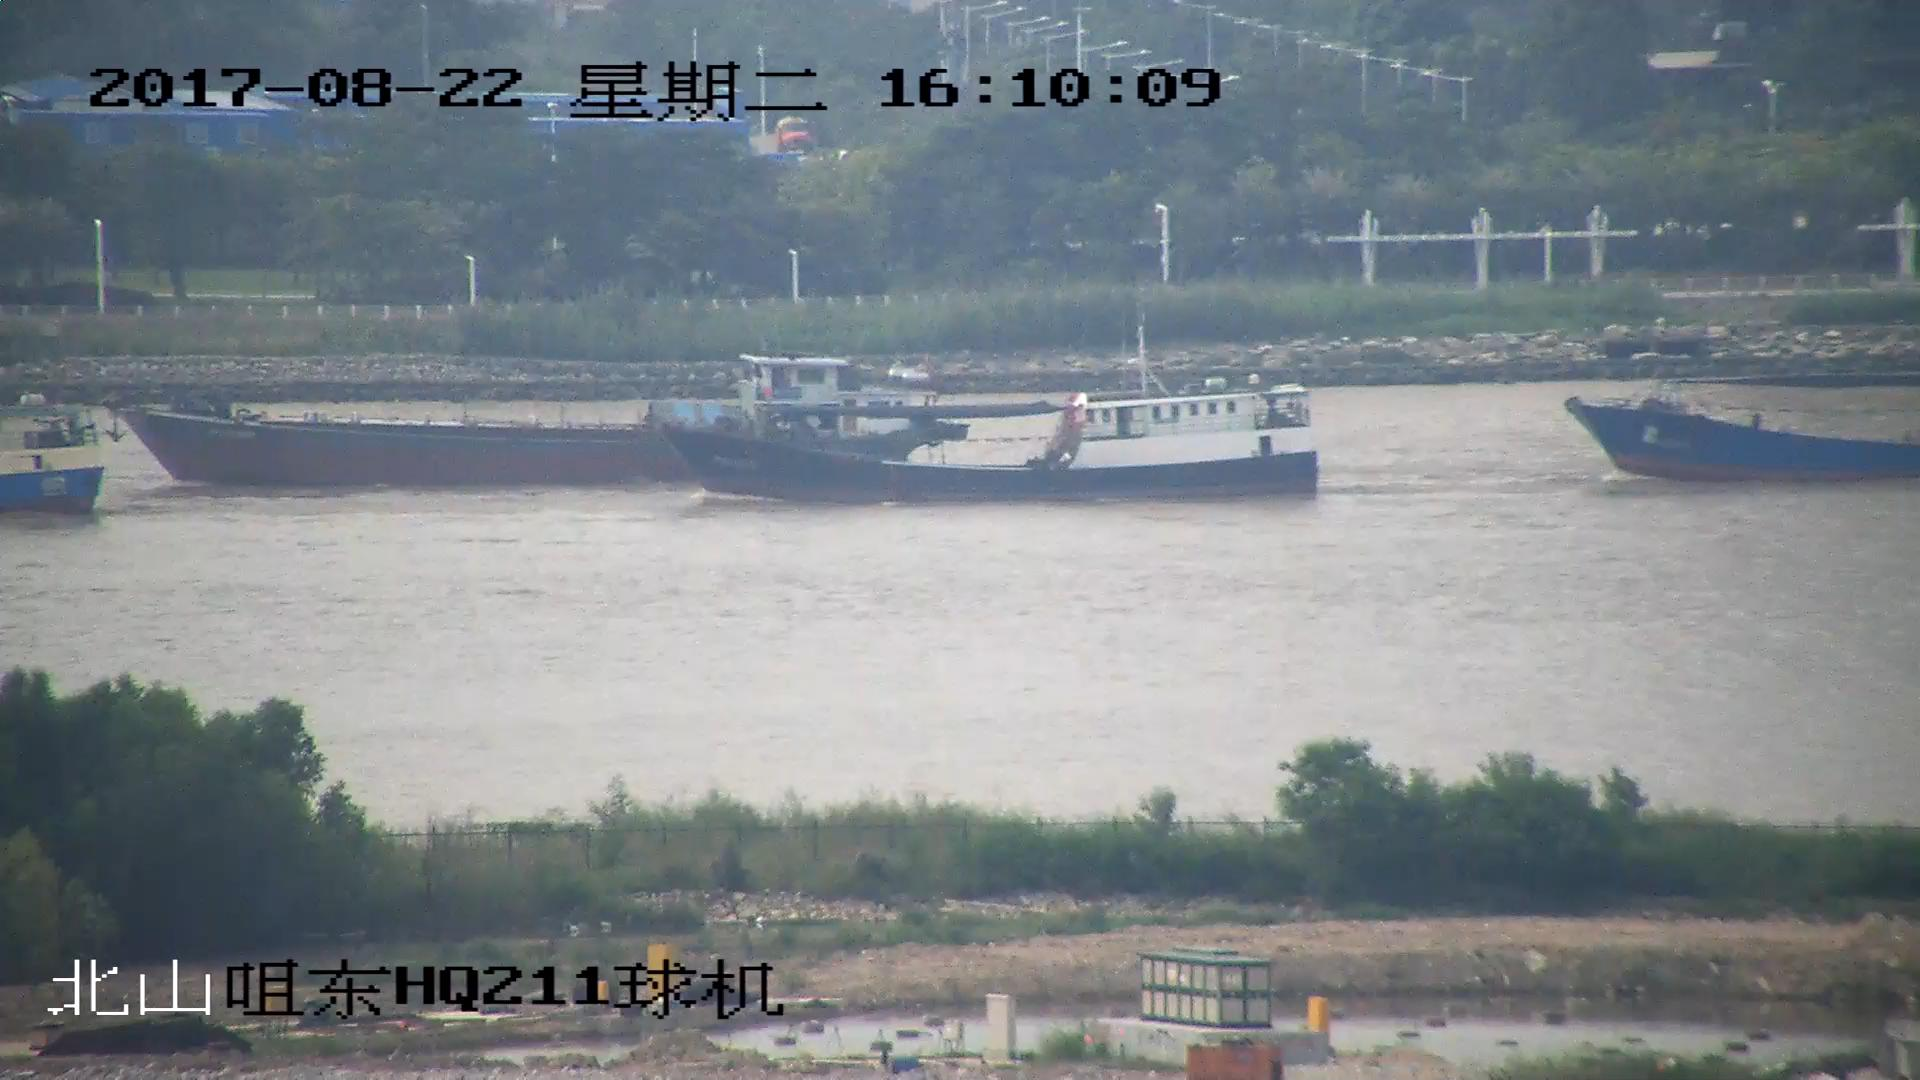bulk cargo carrier: (102, 354, 972, 493)
fishing boat: (667, 365, 1329, 505), (1565, 369, 1920, 488)
